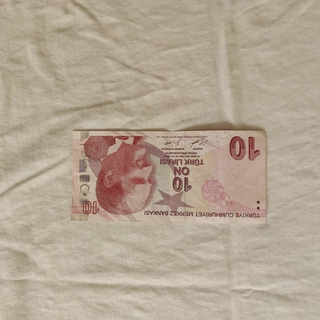10TLFront: (70, 128, 267, 225)
